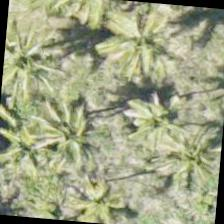Kelapa_Sawit: (15, 100, 114, 198), (90, 1, 188, 99), (106, 71, 204, 168), (144, 106, 224, 204), (0, 18, 65, 113), (0, 105, 55, 200)
